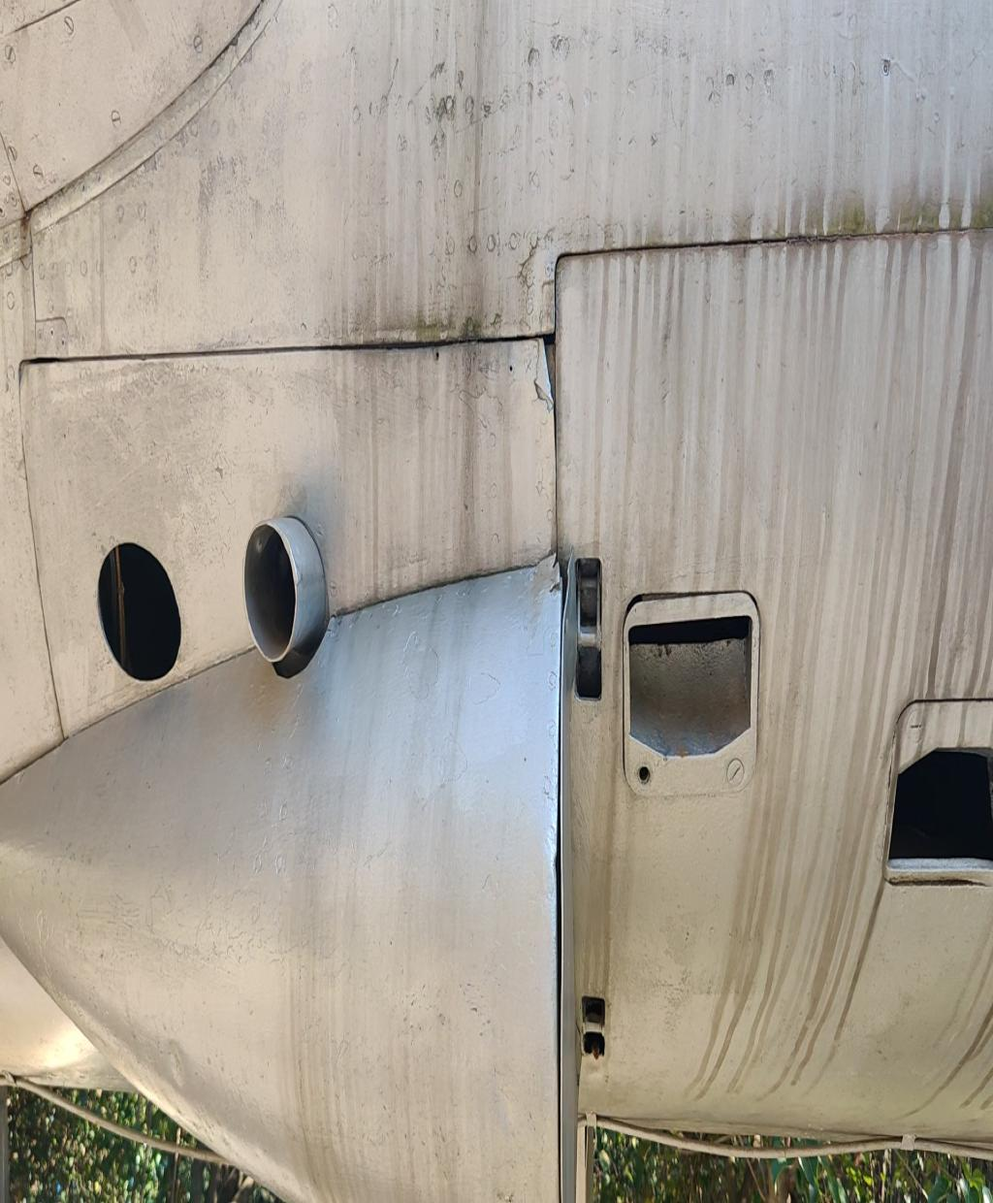crack: (531, 535, 568, 607)
dent: (159, 1014, 194, 1094)
